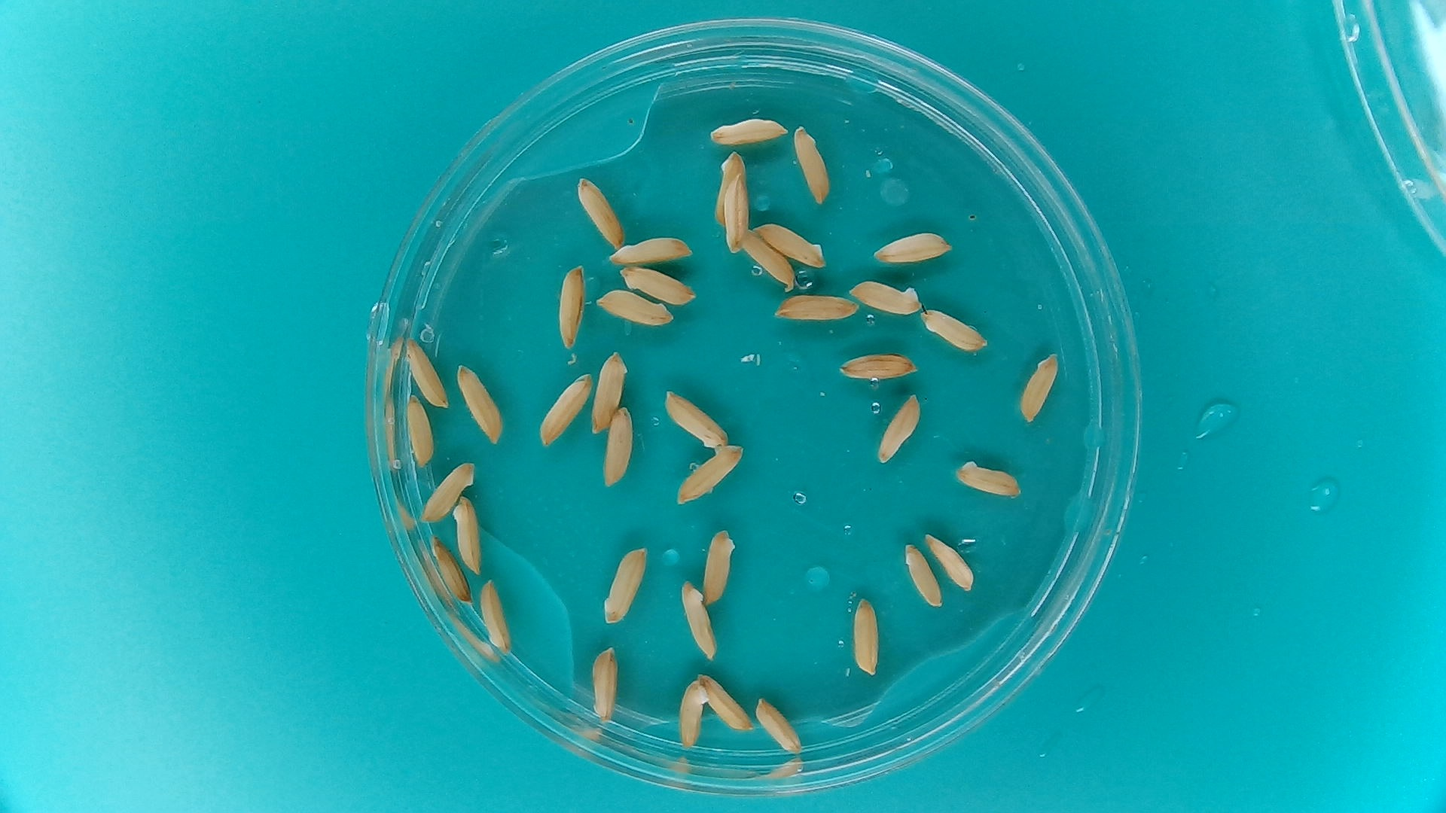no: (674, 440, 746, 507), (535, 370, 593, 449), (454, 360, 505, 446), (660, 385, 731, 446), (598, 544, 650, 626), (417, 459, 477, 525), (715, 148, 752, 253), (449, 496, 495, 578), (575, 174, 625, 248), (875, 391, 923, 466), (678, 577, 719, 662), (589, 348, 629, 435), (403, 334, 450, 408), (740, 227, 795, 290), (923, 531, 978, 594), (426, 532, 472, 607), (754, 221, 827, 268), (699, 671, 754, 733), (616, 263, 697, 304), (475, 576, 515, 658), (792, 123, 831, 207), (1017, 352, 1061, 425), (594, 288, 674, 327), (752, 695, 804, 755), (700, 525, 738, 606), (901, 540, 944, 611), (920, 308, 989, 352), (871, 228, 954, 264), (708, 111, 790, 147), (847, 595, 882, 679), (952, 458, 1023, 499), (773, 290, 861, 323), (555, 262, 587, 352), (601, 403, 634, 489), (607, 233, 694, 265), (848, 279, 923, 316), (587, 644, 621, 725), (837, 350, 920, 382), (726, 177, 758, 254), (676, 675, 708, 751), (404, 394, 435, 469)
